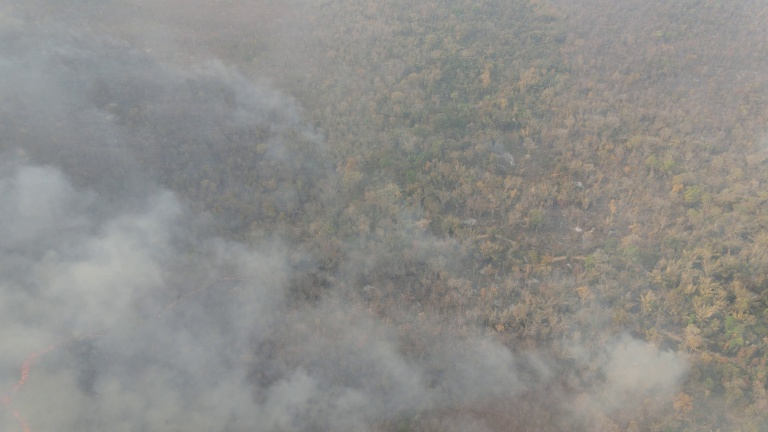fire: (1, 331, 76, 431)
smoke: (1, 167, 303, 431), (193, 61, 330, 155), (587, 328, 693, 427)
